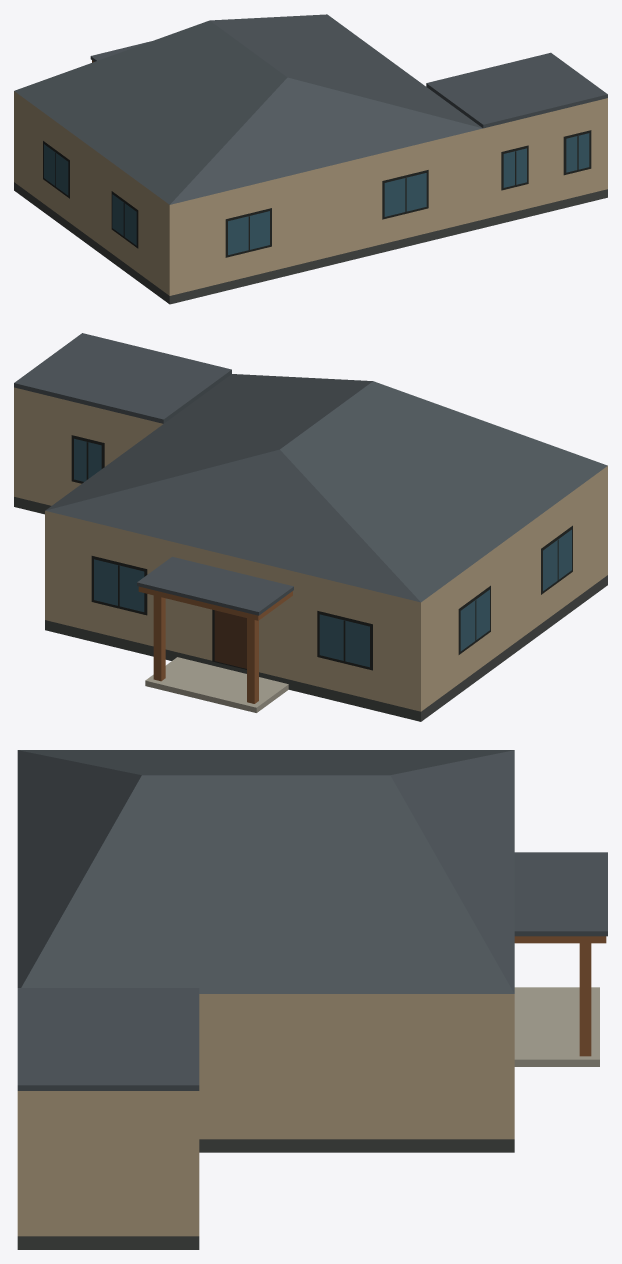
3 views of the same model, one above another, from view 1: azimuth 30°, elevation 25°; view 2: azimuth 150°, elevation 25°; view 3: azimuth 270°, elevation 25° (orthographic). The views are drawn at different scales.
Bounding box in the file's own units: 15.17 × 5.28 × 11.12.
